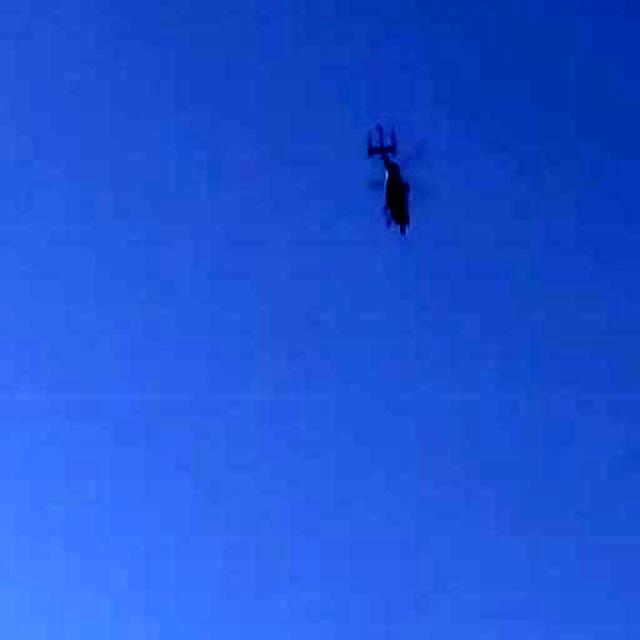drone: (339, 109, 449, 265)
